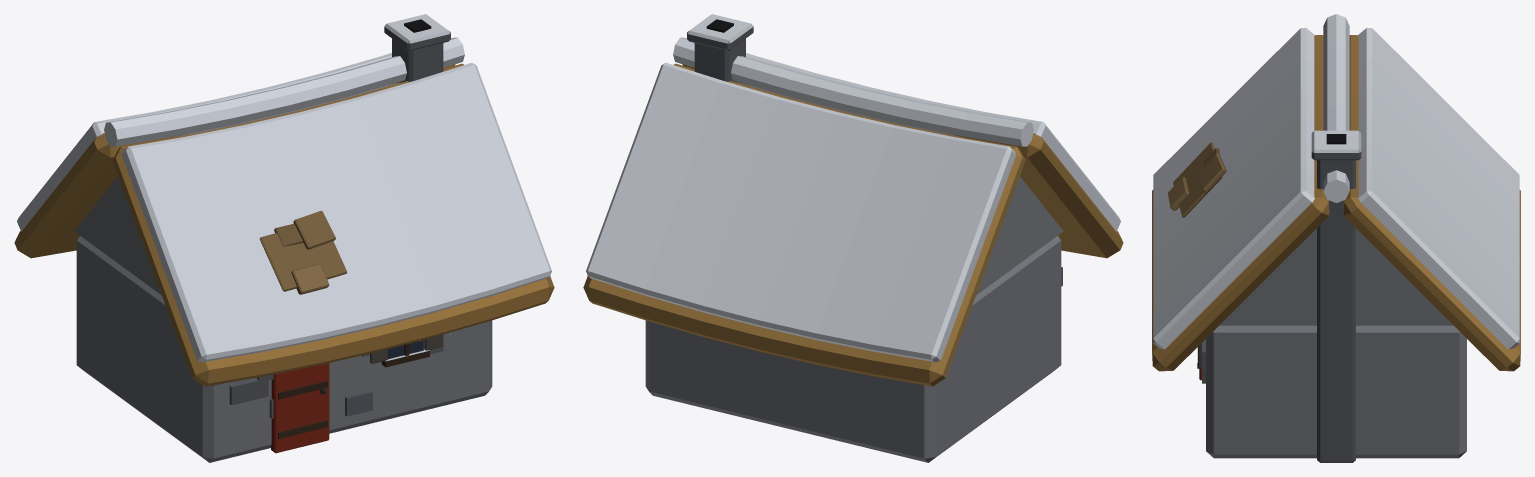
File: village_house_croft.glb
3 renders of one model, left to right at view 1: azimuth 30°, elevation 25°; view 2: azimuth 150°, elevation 25°; view 3: azimuth 270°, elevation 25°, orthographic. The views are drawn at different scales.
Parts seen in each view (by area): view 1: village_house_croft; view 2: village_house_croft; view 3: village_house_croft.
Boxes of the visible parts, x1,y1,x2,y2 form: village_house_croft: (14,14,554,462); village_house_croft: (583,14,1123,462); village_house_croft: (1152,14,1520,462).
Size of the model in its own units: 6.2 by 5.38 by 5.65.
